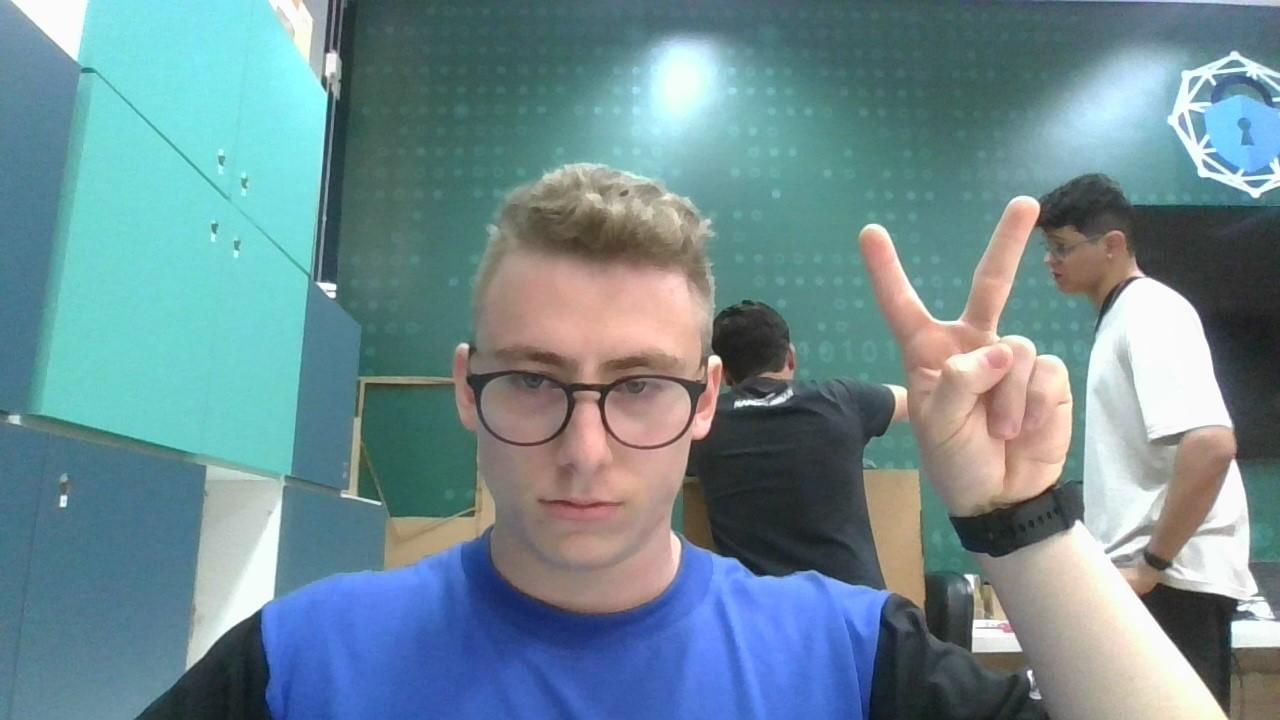V: (850, 194, 1080, 494)
